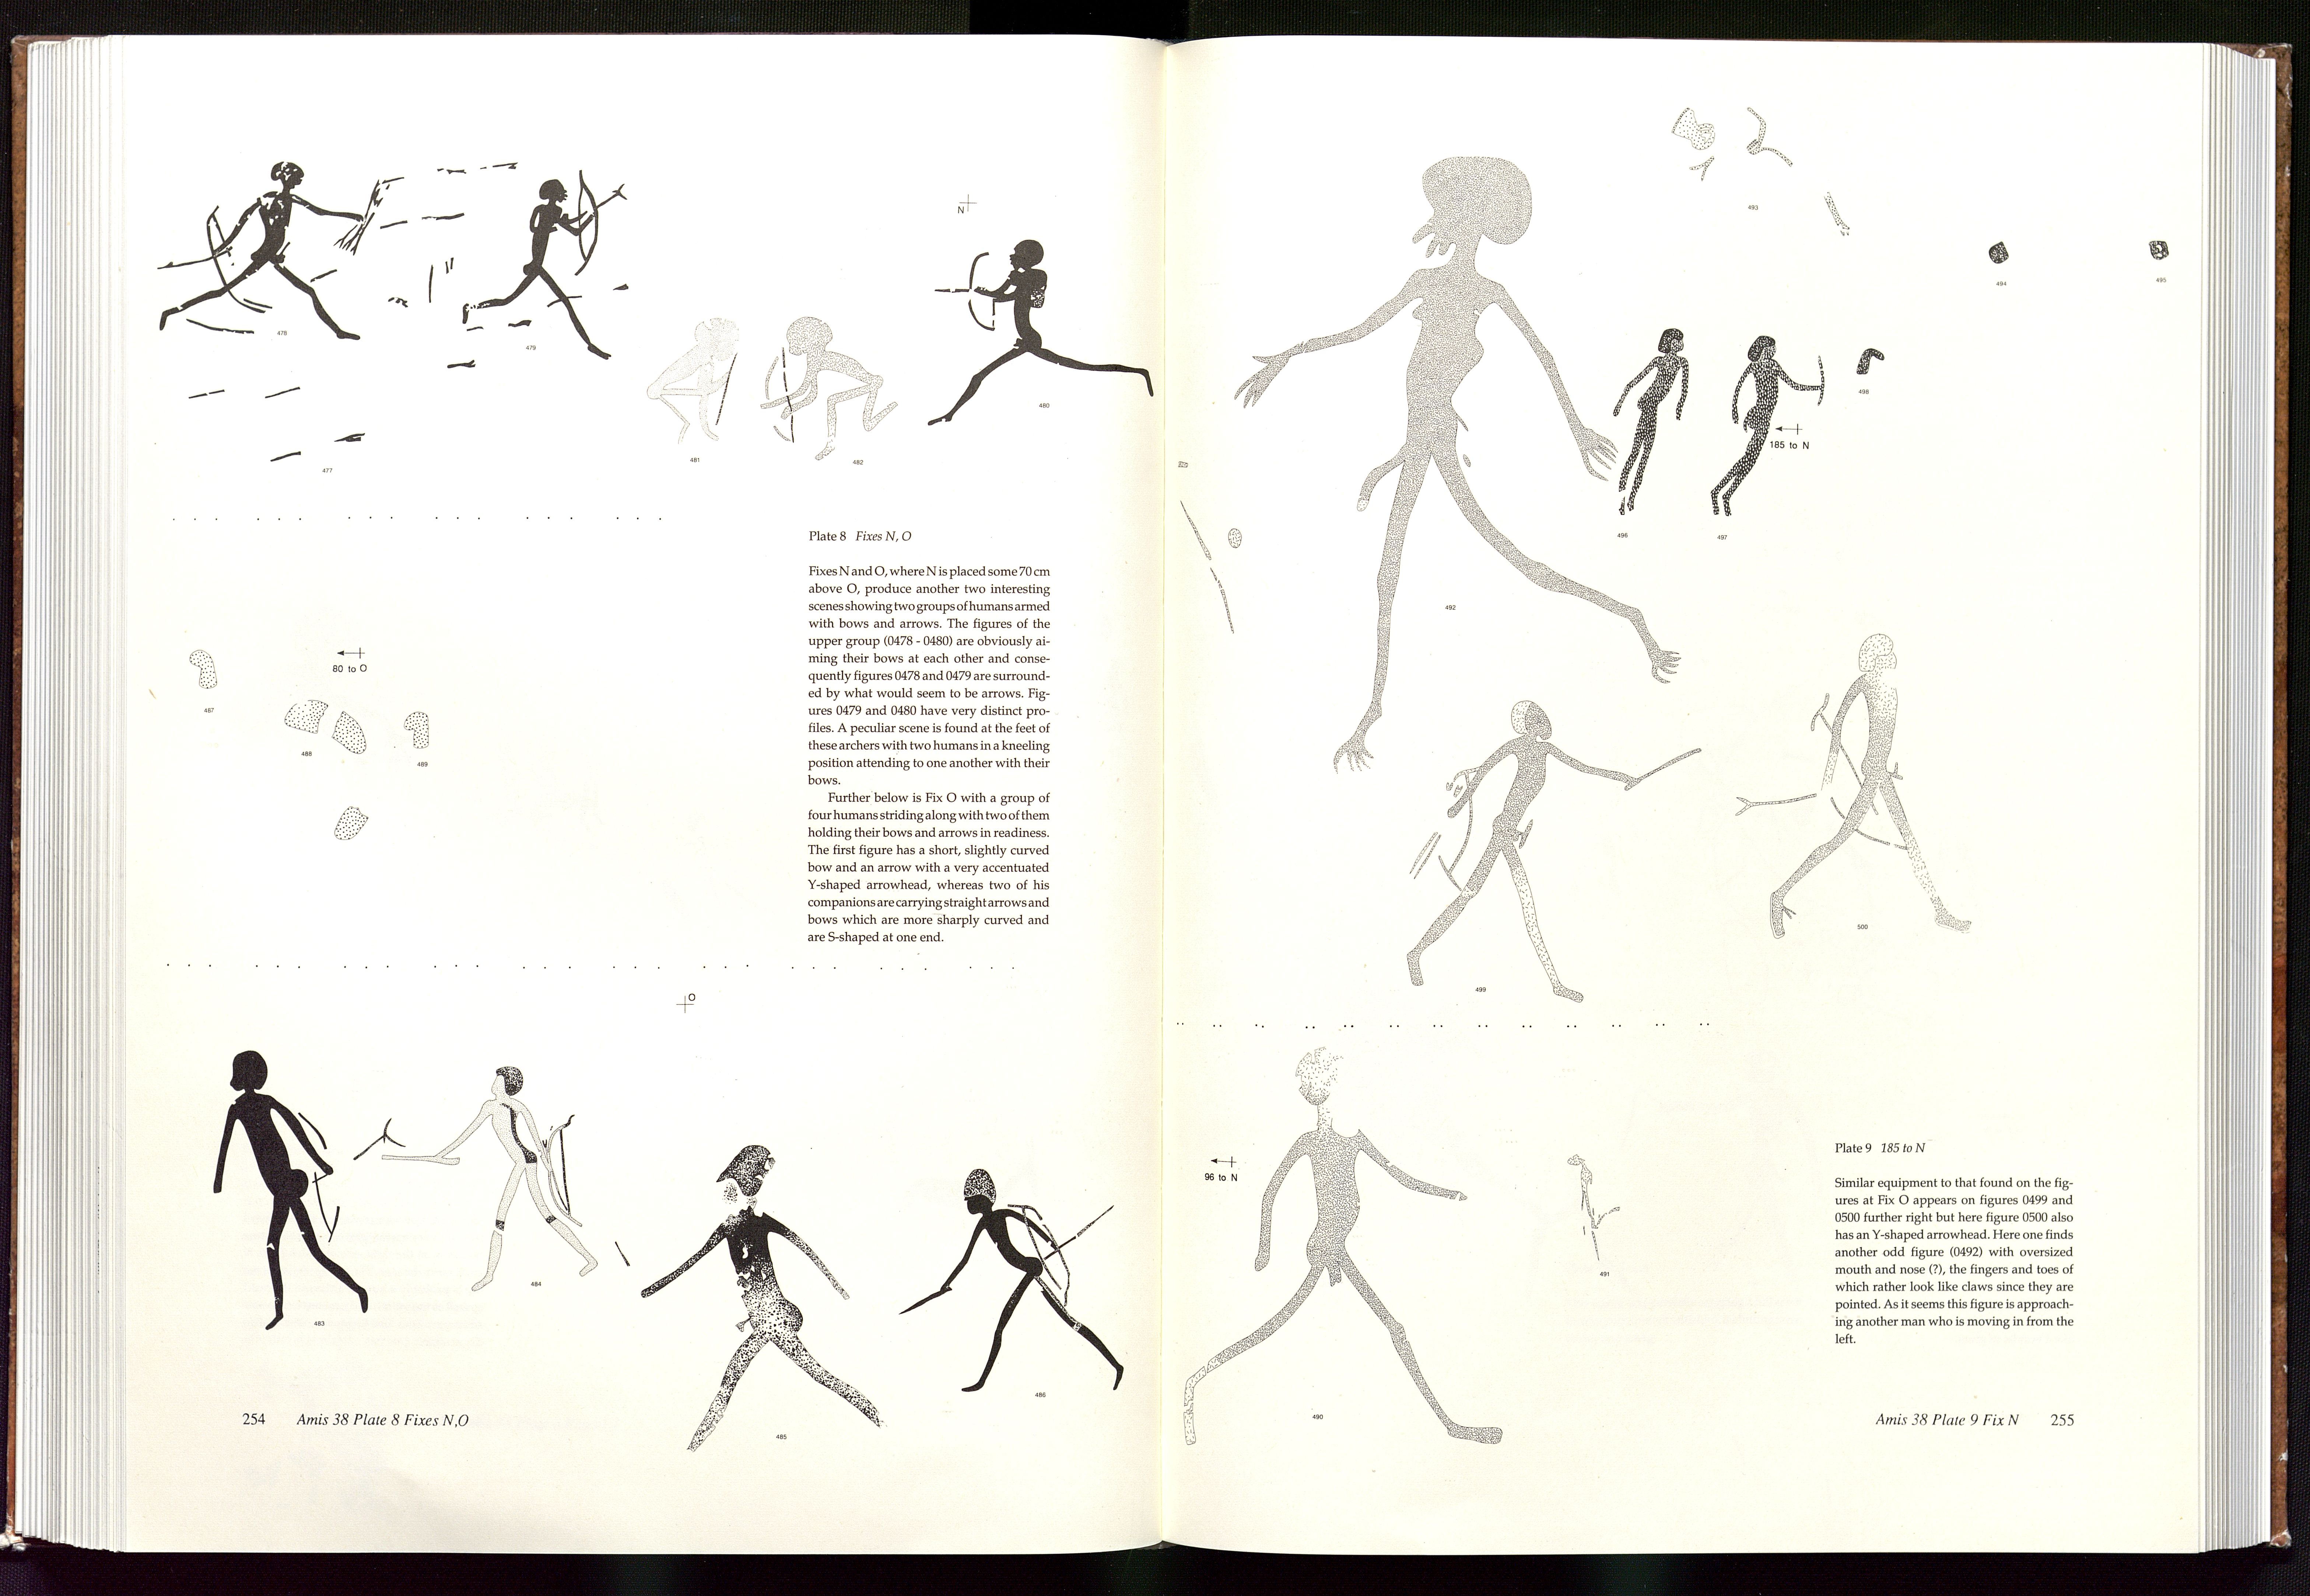human: (1234, 146, 1696, 769), (1175, 1040, 1512, 1452), (1394, 696, 1718, 1013), (630, 1123, 888, 1457), (1733, 627, 1981, 959), (905, 1150, 1141, 1398), (915, 229, 1161, 448), (392, 1062, 616, 1292), (208, 1045, 378, 1342), (151, 141, 365, 357), (459, 173, 618, 362), (1696, 323, 1819, 532), (758, 311, 903, 473), (1610, 327, 1704, 529), (645, 298, 748, 463)
